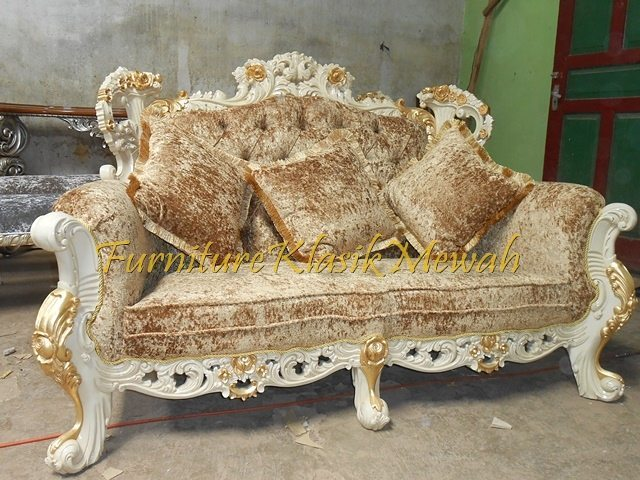Carving Chair: (47, 72, 628, 443)
